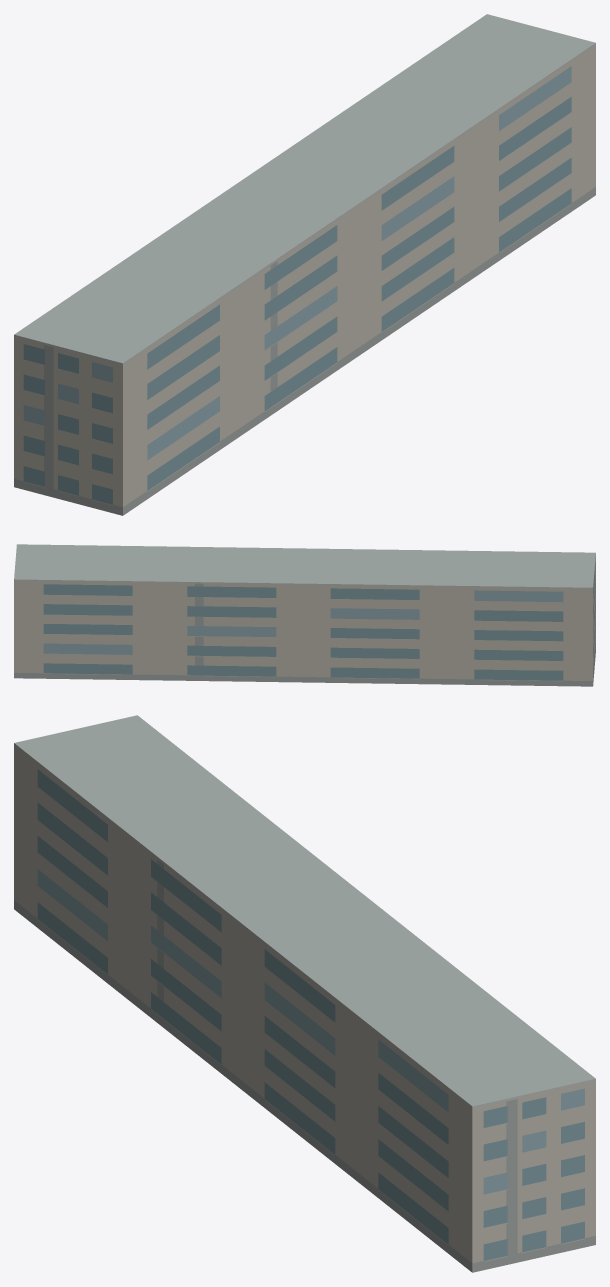
Rendered from residential-bcded1e7-39c4-4b0f-a916-5c14630ef0d8.glb.
The picture shows the model from 3 angles, top to bottom: view 1: azimuth 30°, elevation 25°; view 2: azimuth 150°, elevation 25°; view 3: azimuth 270°, elevation 25°; orthographic projection. The views are drawn at different scales.
Visible parts, largest first — view 1: residential-bcded1e7-39c4-4b0f-a916-5c14630ef0d8.tmp; view 2: residential-bcded1e7-39c4-4b0f-a916-5c14630ef0d8.tmp; view 3: residential-bcded1e7-39c4-4b0f-a916-5c14630ef0d8.tmp.
Boxes of the visible parts, <box> form: residential-bcded1e7-39c4-4b0f-a916-5c14630ef0d8.tmp: <box>14,14,595,515</box>; residential-bcded1e7-39c4-4b0f-a916-5c14630ef0d8.tmp: <box>14,544,595,686</box>; residential-bcded1e7-39c4-4b0f-a916-5c14630ef0d8.tmp: <box>14,715,595,1272</box>.
Bounding box in the file's own units: 76.96 × 15.25 × 48.37.
